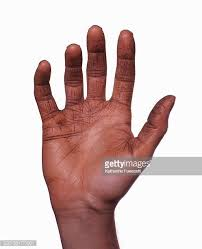palm: (44, 101, 134, 191)
